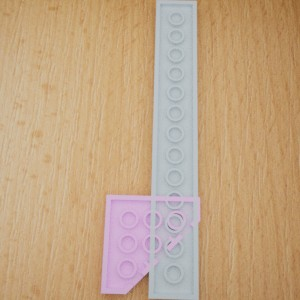lego: (148, 0, 198, 300), (100, 194, 200, 294)
